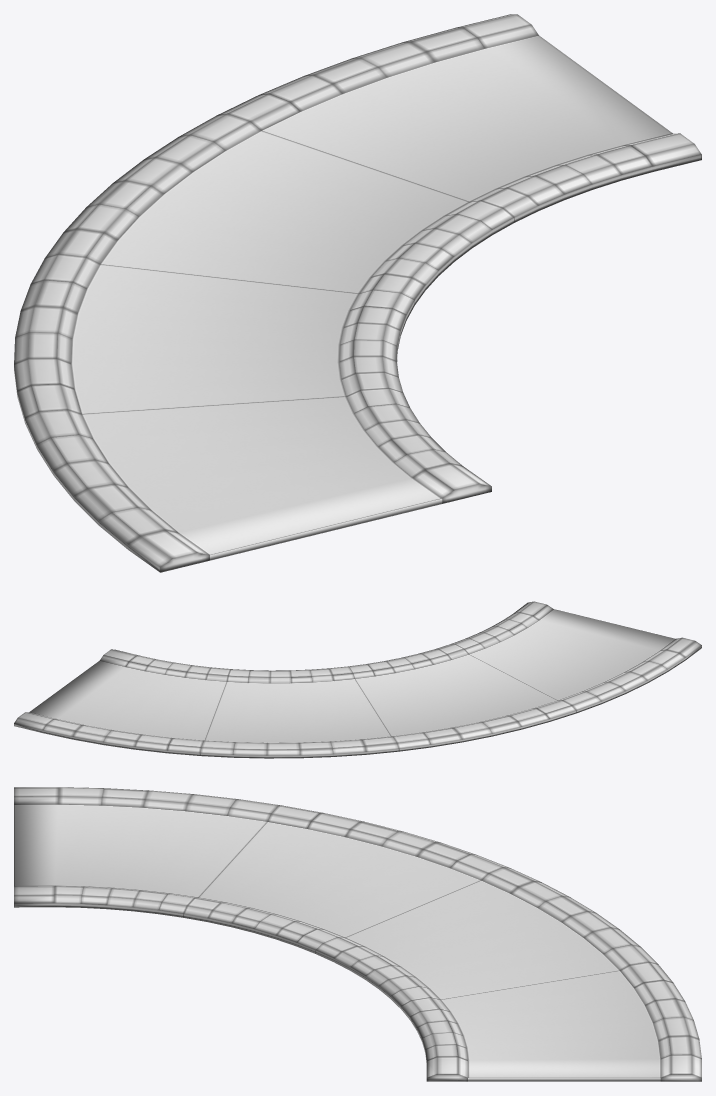
The model's file is Track-05.fbx.
3 renders of one model, top to bottom at view 1: azimuth 30°, elevation 25°; view 2: azimuth 150°, elevation 25°; view 3: azimuth 270°, elevation 25°, orthographic. The views are drawn at different scales.
Visible parts, largest first — view 1: Track-05; view 2: Track-05; view 3: Track-05.
Part boxes in pixels (x1=…): Track-05: x1=14, y1=14, x2=701, y2=572; Track-05: x1=14, y1=601, x2=701, y2=758; Track-05: x1=14, y1=787, x2=701, y2=1081.
Size of the model in its own units: 5 by 0.0625 by 5.
